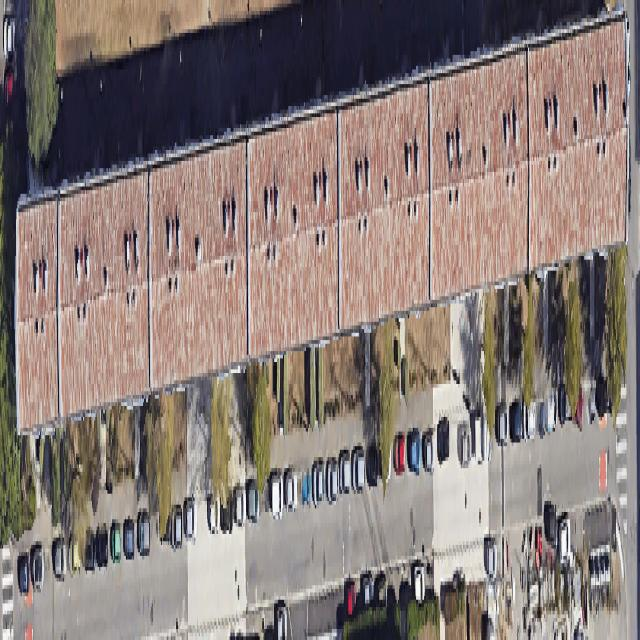immeuble: (0, 8, 640, 436)
